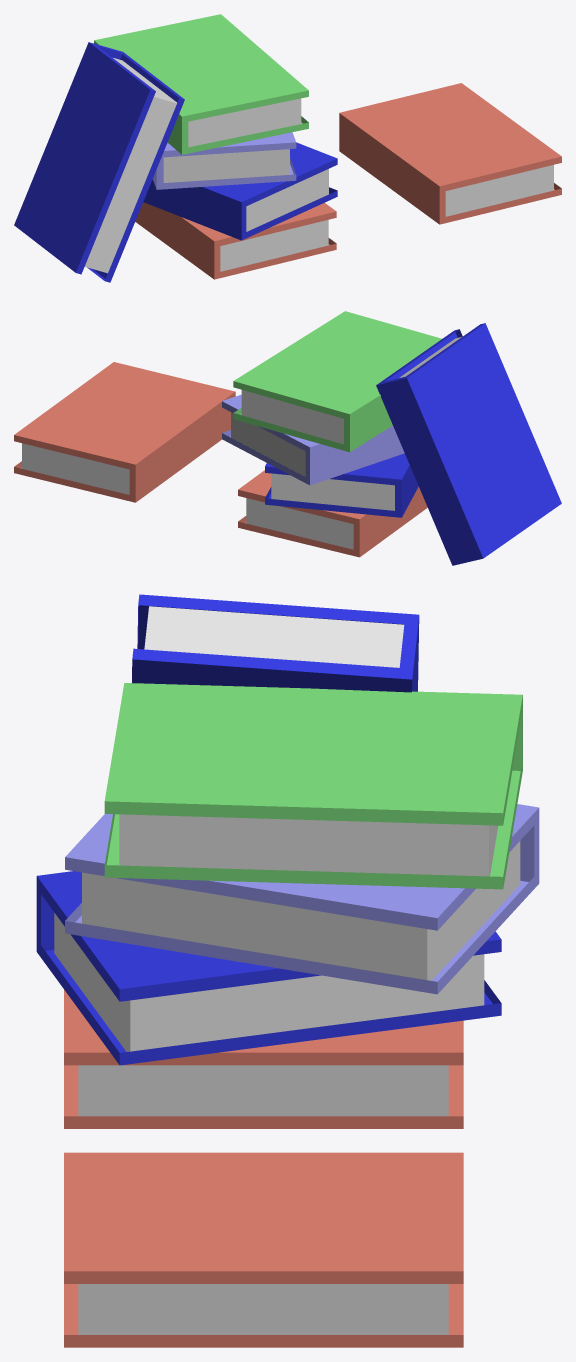
Rendered from book pile.fbx.
The picture shows the model from 3 angles, top to bottom: view 1: azimuth 30°, elevation 25°; view 2: azimuth 150°, elevation 25°; view 3: azimuth 270°, elevation 25°; orthographic projection. The views are drawn at different scales.
Parts seen in each view (by area): view 1: Cube.024, Cube.028, Cube.012, Cube.008, Cube, Cube.025, Cube.017, Cube.013, Cube.001, Cube.029, Cube.016, Cube.009; view 2: Cube.024, Cube.028, Cube.012, Cube.016, Cube, Cube.008, Cube.009, Cube.029, Cube.001, Cube.013, Cube.017; view 3: Cube.012, Cube.028, Cube.017, Cube.013, Cube.001, Cube.009, Cube.029, Cube.016, Cube.008, Cube, Cube.024, Cube.025.
Part boxes in pixels (x1=…): Cube.024: x1=14, y1=42, x2=184, y2=282; Cube.028: x1=339, y1=83, x2=561, y2=224; Cube.012: x1=94, y1=14, x2=308, y2=154; Cube.008: x1=143, y1=142, x2=337, y2=240; Cube: x1=135, y1=202, x2=336, y2=279; Cube.025: x1=85, y1=58, x2=176, y2=273; Cube.017: x1=163, y1=149, x2=289, y2=182; Cube.013: x1=188, y1=98, x2=301, y2=147; Cube.001: x1=220, y1=220, x2=328, y2=271; Cube.029: x1=445, y1=165, x2=553, y2=216; Cube.016: x1=152, y1=132, x2=296, y2=189; Cube.009: x1=246, y1=169, x2=328, y2=231; Cube.024: x1=376, y1=323, x2=561, y2=565; Cube.028: x1=14, y1=362, x2=235, y2=502; Cube.012: x1=233, y1=311, x2=441, y2=452; Cube.016: x1=222, y1=394, x2=404, y2=485; Cube: x1=238, y1=470, x2=427, y2=557; Cube.008: x1=265, y1=453, x2=418, y2=517; Cube.009: x1=271, y1=473, x2=394, y2=510; Cube.029: x1=22, y1=443, x2=129, y2=494; Cube.001: x1=246, y1=498, x2=353, y2=549; Cube.013: x1=241, y1=390, x2=343, y2=444; Cube.017: x1=231, y1=412, x2=305, y2=476; Cube.012: x1=104, y1=683, x2=522, y2=889; Cube.028: x1=64, y1=1152, x2=463, y2=1347; Cube.017: x1=82, y1=841, x2=520, y2=980; Cube.013: x1=119, y1=814, x2=498, y2=876; Cube.001: x1=78, y1=1065, x2=448, y2=1116; Cube.009: x1=54, y1=913, x2=484, y2=1051; Cube.029: x1=78, y1=1284, x2=448, y2=1334; Cube.016: x1=65, y1=804, x2=539, y2=994; Cube.008: x1=36, y1=871, x2=501, y2=1065; Cube: x1=64, y1=990, x2=463, y2=1128; Cube.024: x1=132, y1=594, x2=419, y2=692; Cube.025: x1=144, y1=606, x2=404, y2=667.
Size of the model in its own units: 538 by 205 by 251.
